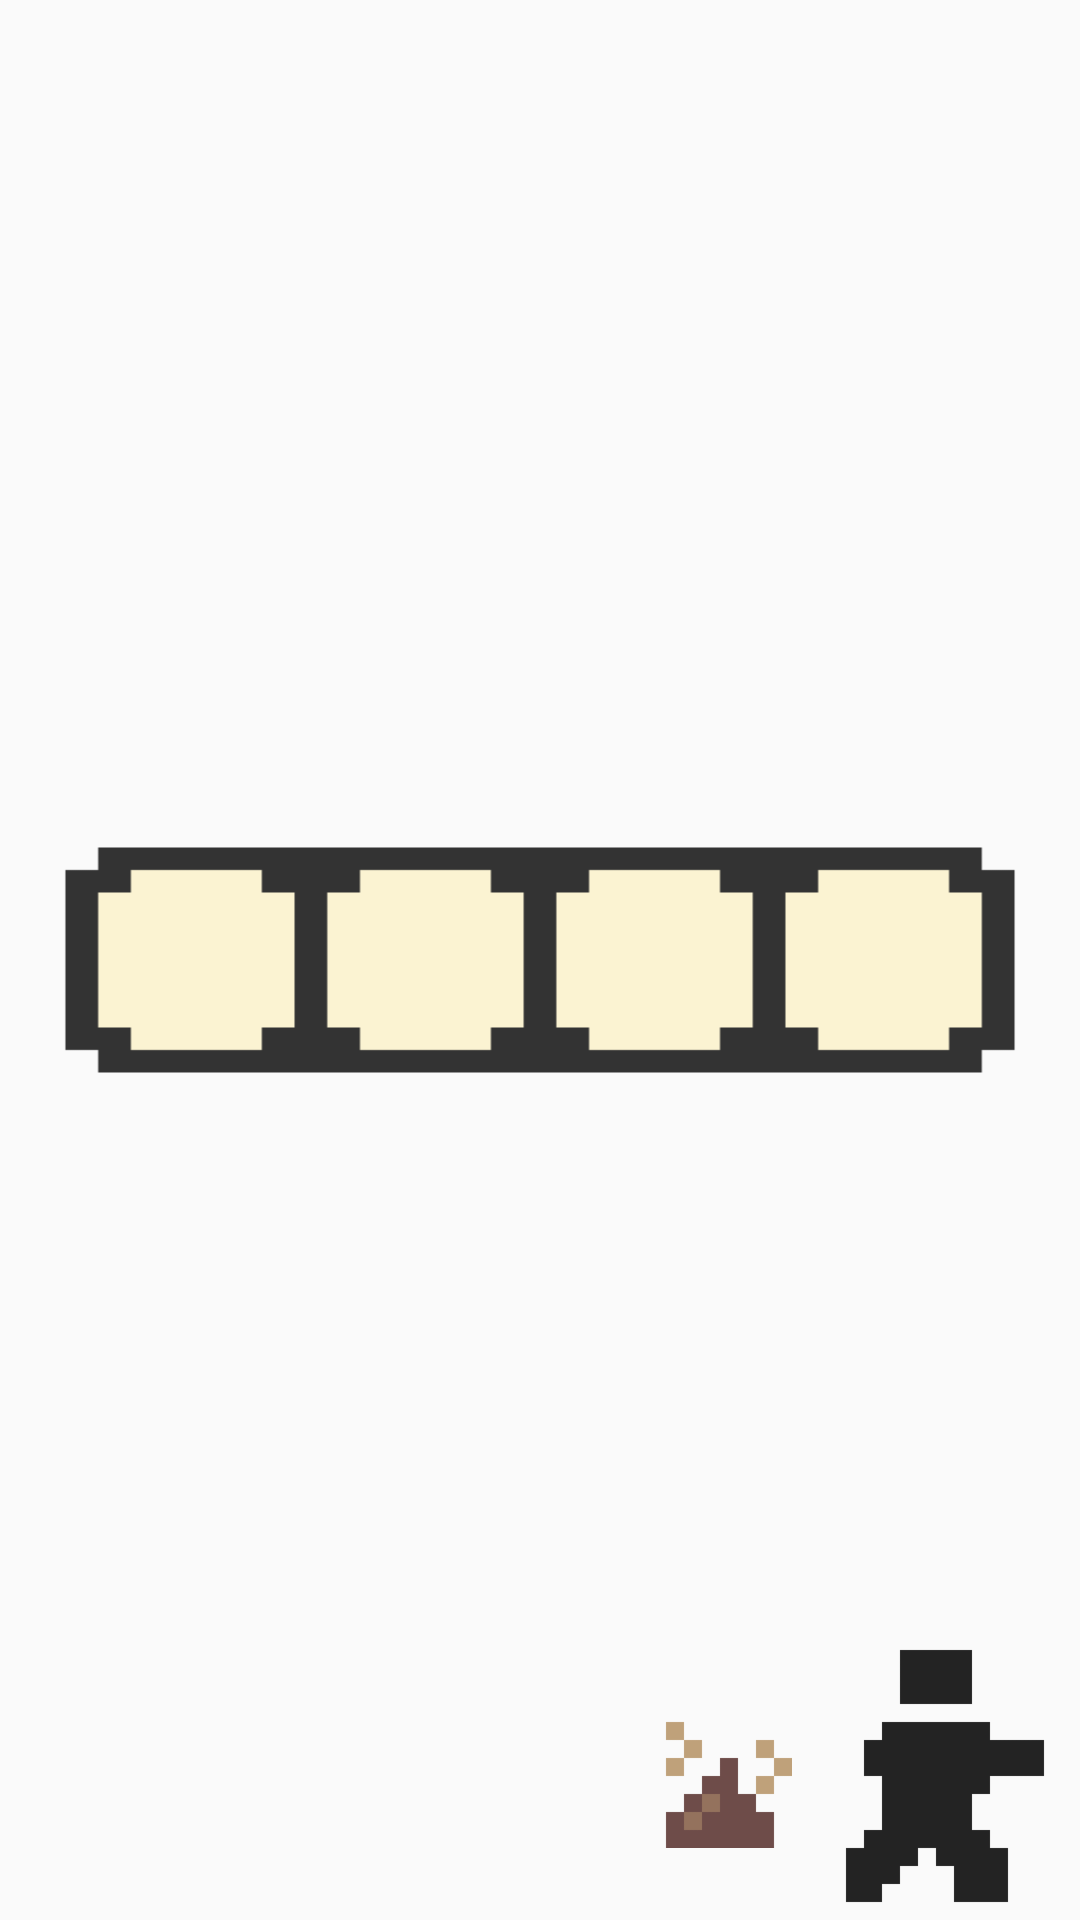

Icons on this 1080px x 1920px Android screen, each with its box as (x1, y1, x2, y2):
dirtone: (666, 1722, 792, 1848)
